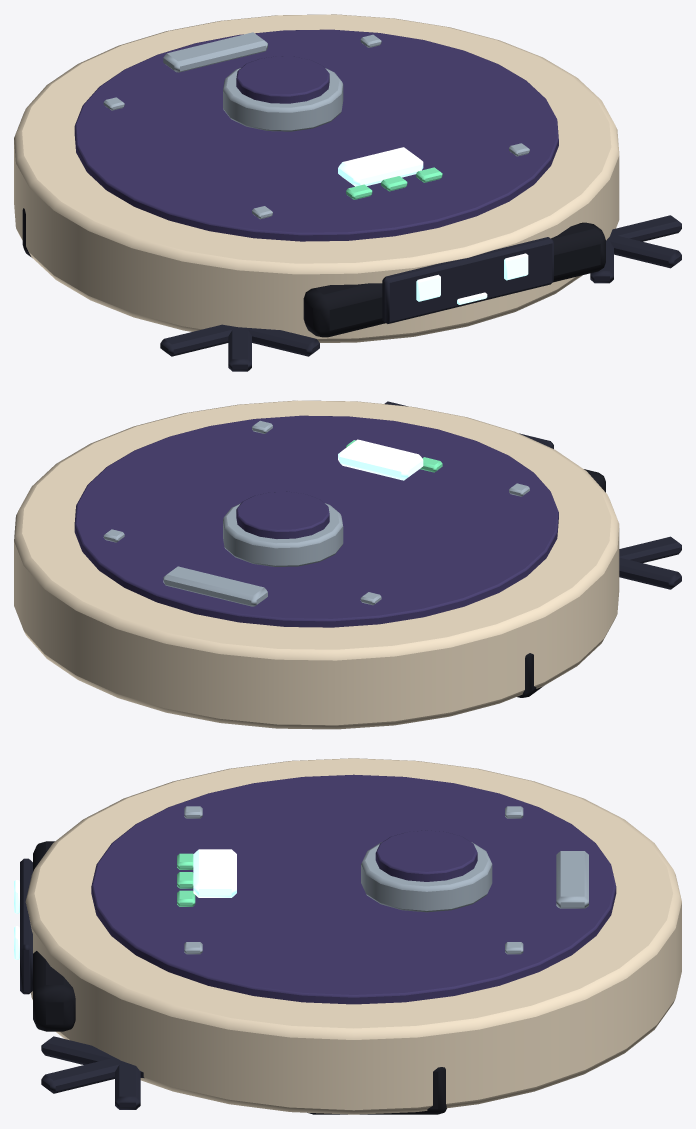
File: roomba.glb
The picture shows the model from 3 angles, top to bottom: view 1: azimuth 30°, elevation 25°; view 2: azimuth 150°, elevation 25°; view 3: azimuth 270°, elevation 25°; orthographic projection. The views are drawn at different scales.
Visible parts, largest first — view 1: Batch_Scene_CITY / purple.022, Batch_Scene_CITY / cream.022, Batch_Scene_CITY / charcoal.022, Batch_Scene_CITY / metal.022, Batch_Scene_CITY / rubber.022, Batch_Brush_CITY / charcoal.022, Batch_Scene_CITY / light.022, Batch_Brush001_CITY / charcoal.022, Batch_Scene_CITY / #85ffc3; view 2: Batch_Scene_CITY / cream.022, Batch_Scene_CITY / purple.022, Batch_Scene_CITY / metal.022, Batch_Brush_CITY / charcoal.022, Batch_Scene_CITY / light.022, Batch_Scene_CITY / rubber.022; view 3: Batch_Scene_CITY / cream.022, Batch_Scene_CITY / purple.022, Batch_Scene_CITY / metal.022, Batch_Brush001_CITY / charcoal.022, Batch_Scene_CITY / rubber.022, Batch_Scene_CITY / light.022, Batch_Scene_CITY / charcoal.022, Batch_Scene_CITY / #85ffc3.
Boxes of the visible parts, bbox=[...] form: Batch_Scene_CITY / purple.022: bbox=[74, 29, 558, 241]; Batch_Scene_CITY / cream.022: bbox=[14, 14, 619, 342]; Batch_Scene_CITY / charcoal.022: bbox=[382, 237, 553, 323]; Batch_Scene_CITY / metal.022: bbox=[103, 32, 529, 219]; Batch_Scene_CITY / rubber.022: bbox=[22, 208, 605, 337]; Batch_Brush_CITY / charcoal.022: bbox=[160, 324, 319, 371]; Batch_Scene_CITY / light.022: bbox=[338, 147, 528, 304]; Batch_Brush001_CITY / charcoal.022: bbox=[590, 215, 681, 283]; Batch_Scene_CITY / #85ffc3: bbox=[346, 167, 442, 199]; Batch_Scene_CITY / cream.022: bbox=[14, 400, 619, 729]; Batch_Scene_CITY / purple.022: bbox=[74, 415, 558, 627]; Batch_Scene_CITY / metal.022: bbox=[103, 420, 529, 606]; Batch_Brush_CITY / charcoal.022: bbox=[619, 536, 681, 589]; Batch_Scene_CITY / light.022: bbox=[338, 439, 423, 480]; Batch_Scene_CITY / rubber.022: bbox=[517, 469, 605, 697]; Batch_Scene_CITY / cream.022: bbox=[25, 758, 681, 1114]; Batch_Scene_CITY / purple.022: bbox=[91, 774, 616, 1004]; Batch_Scene_CITY / metal.022: bbox=[184, 806, 588, 954]; Batch_Brush001_CITY / charcoal.022: bbox=[41, 1036, 144, 1109]; Batch_Scene_CITY / rubber.022: bbox=[33, 841, 446, 1114]; Batch_Scene_CITY / light.022: bbox=[14, 849, 236, 959]; Batch_Scene_CITY / charcoal.022: bbox=[20, 858, 32, 994]; Batch_Scene_CITY / #85ffc3: bbox=[177, 853, 195, 906].
Size of the model in its own units: 0.9 by 0.2015 by 0.916.
